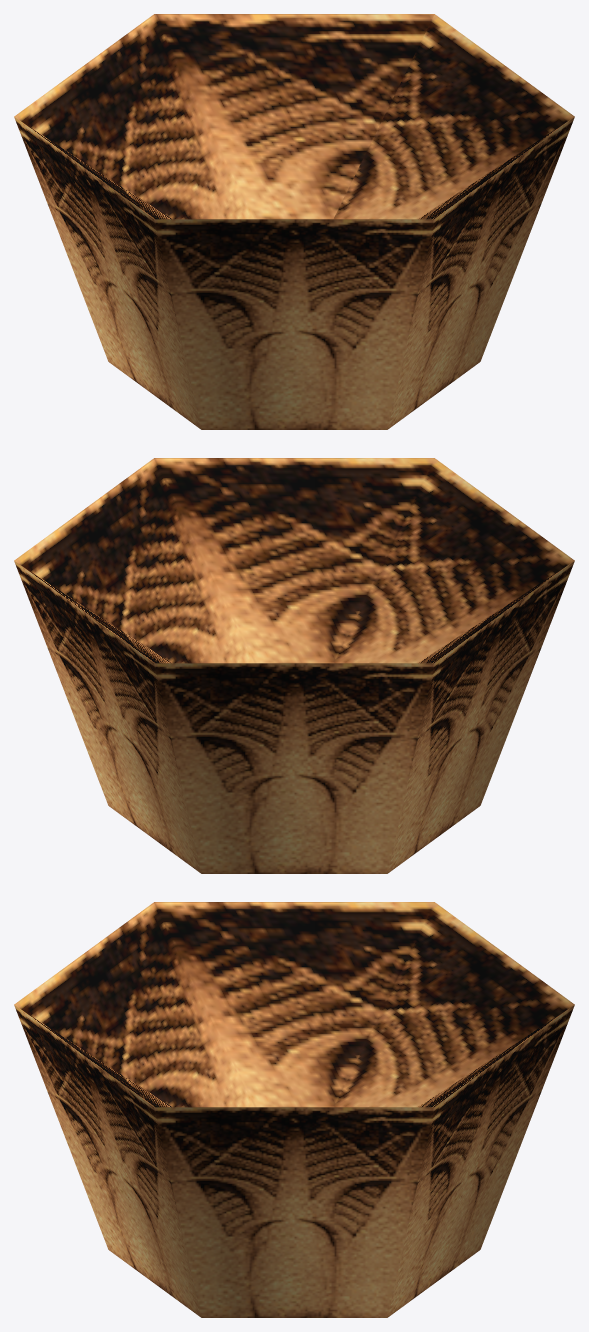
Rendered from TORCHCUP.obj.
3 renders of one model, top to bottom at view 1: azimuth 30°, elevation 25°; view 2: azimuth 150°, elevation 25°; view 3: azimuth 270°, elevation 25°, orthographic.
Size of the model in its own units: 53.54 by 29.81 by 61.82.
Materials: 1 (1 with a texture image).
